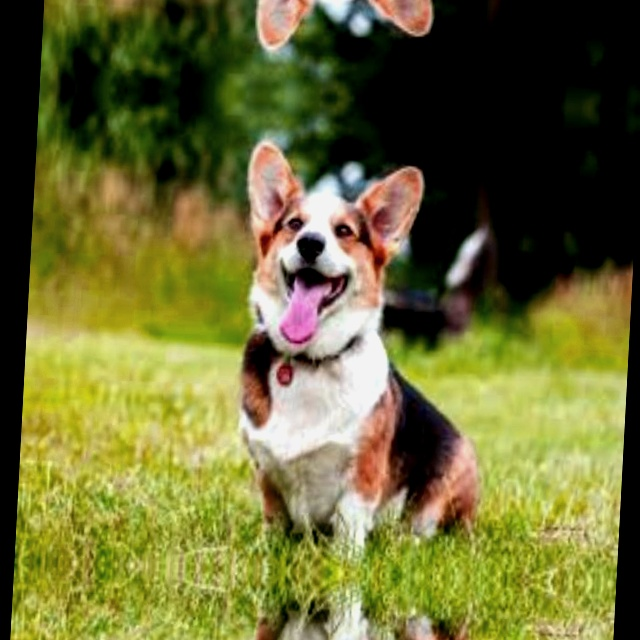dog: (213, 121, 509, 554), (238, 0, 516, 76), (205, 593, 483, 640)
